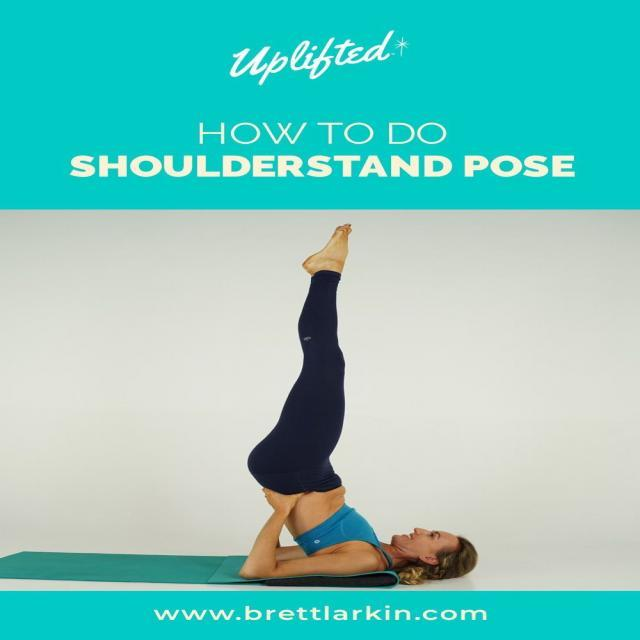yoga-pose shoulderstand: (242, 226, 480, 582)
